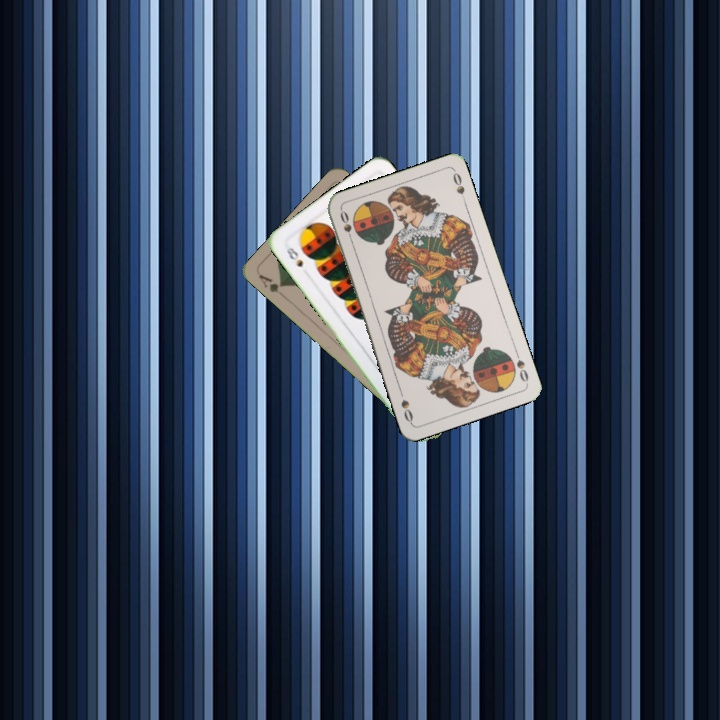GA: (254, 270, 287, 295)
S8: (280, 242, 306, 270)
SO: (336, 206, 356, 246), (511, 346, 531, 385)
